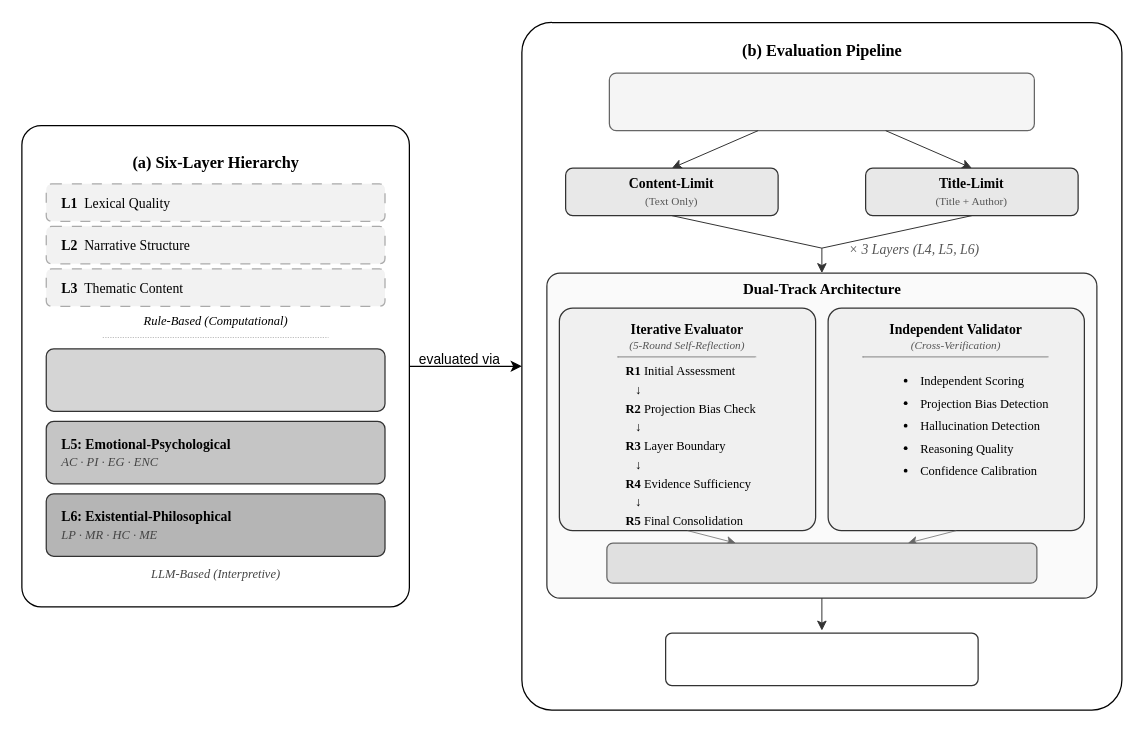
Image size: 1144x731. Some labels were removed from this diagram. Each missing label, with the centre of its shape:
"Agreement Analysis Inter-Rater Reliability · MAD < 0.5" goes at [821,562].
"Final Assessment 12 Dimensions × 2 Modes × 100 Stories" goes at [821,659].
"L4: Cultural Representation IPD · CVP · CSP · CPC" goes at [215,379].
"Story Corpus Canonical (50) · Pulp (30) · LLM-Generated (20)" goes at [821,101].
